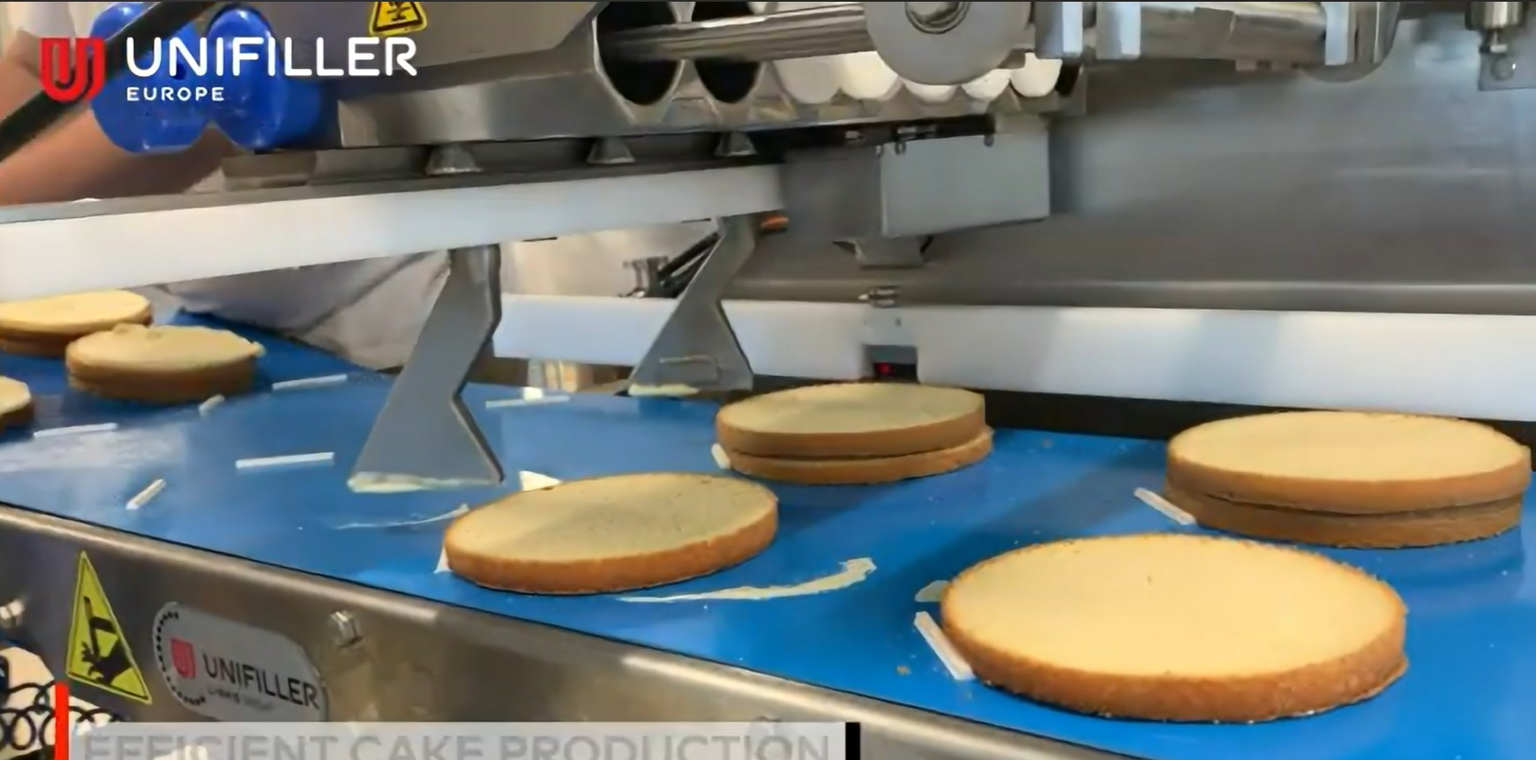Sponge Cake: (936, 533, 1408, 723), (1170, 406, 1533, 546), (441, 473, 782, 597), (714, 384, 995, 480)
Whipped Cream: (66, 328, 262, 401), (0, 287, 152, 356)
